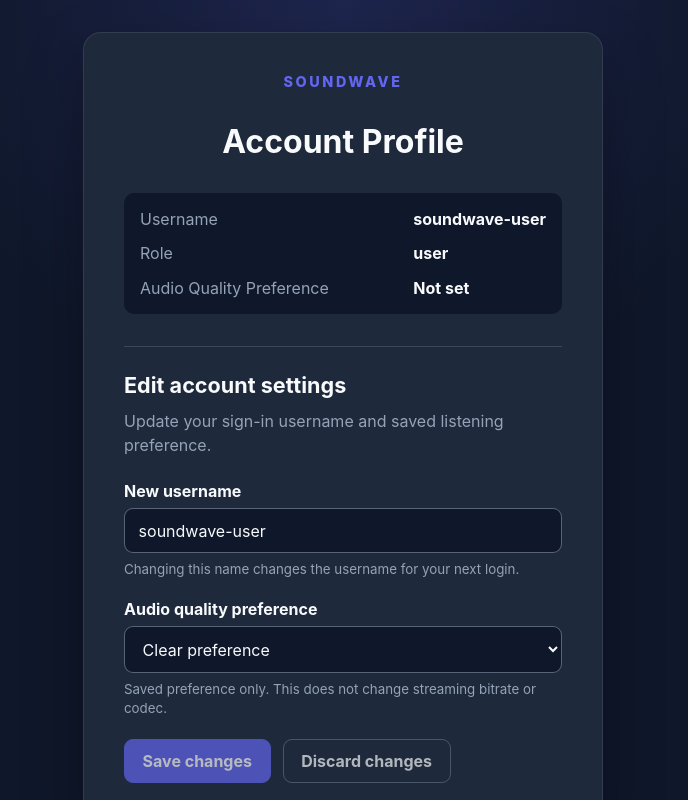
Test: SCRUM-359 profile editor › shows a useful conflict error and retains the unsaved draft
Replace the text in the field labelled "New username" with "already-used" at (343, 531), box [124,508,562,553]
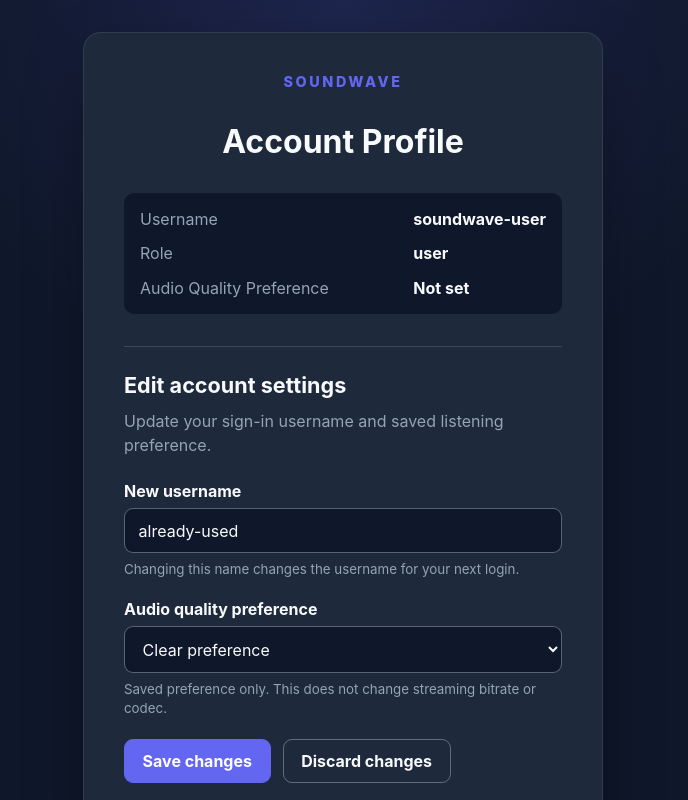
Click the button "Save changes" at (197, 761), box [124,739,270,783]
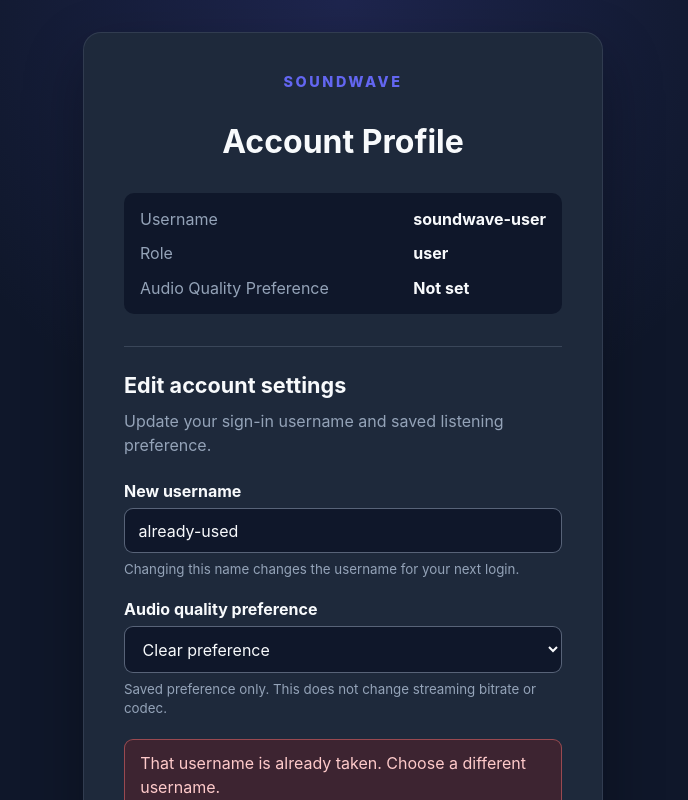
Expected: the text "soundwave-user" is shown, [413,209,546,229]
Expected: the message shows "already taken", [140,754,526,797]
